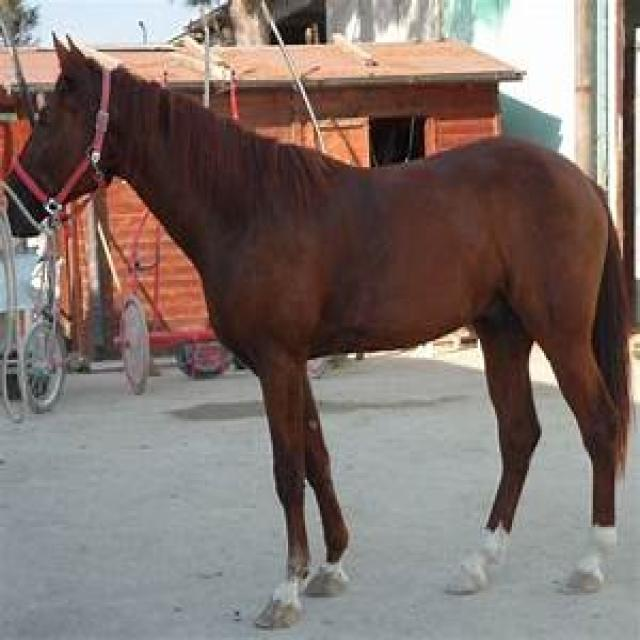horse: (11, 33, 620, 630)
